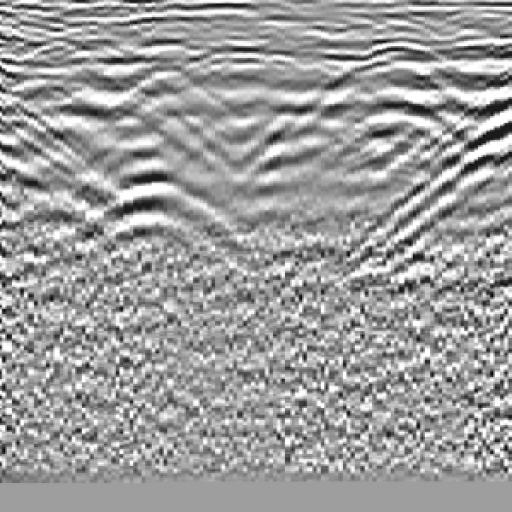metalic: (69, 170, 244, 269)
nonmetalic: (377, 56, 512, 303)
